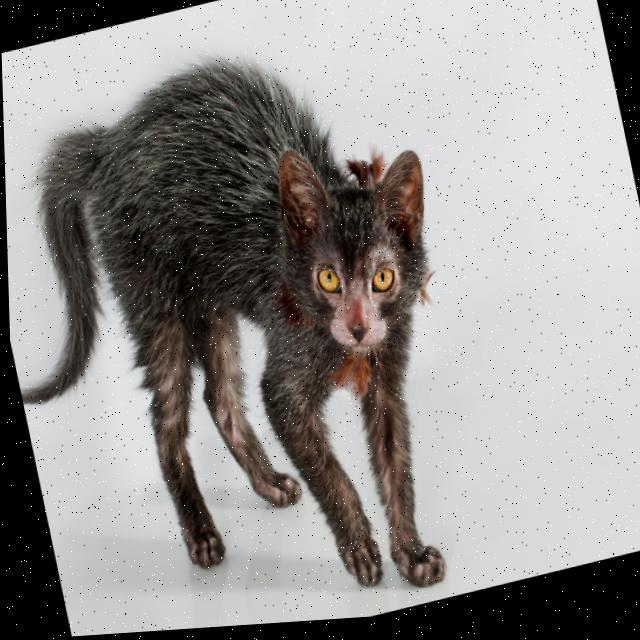Lykoi: (1, 1, 511, 640)
